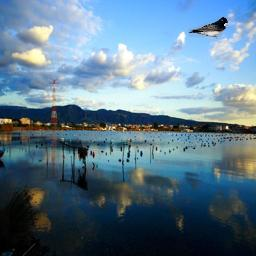Swallow: (188, 17, 228, 39)
